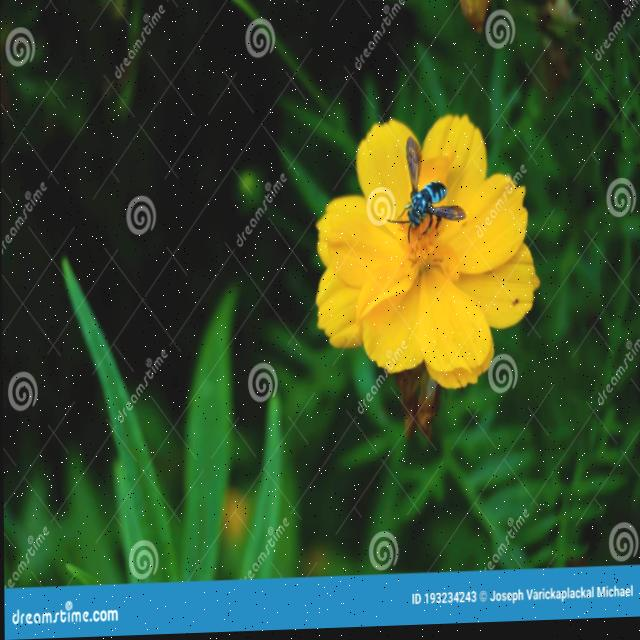Thyreus: (385, 130, 466, 248)
